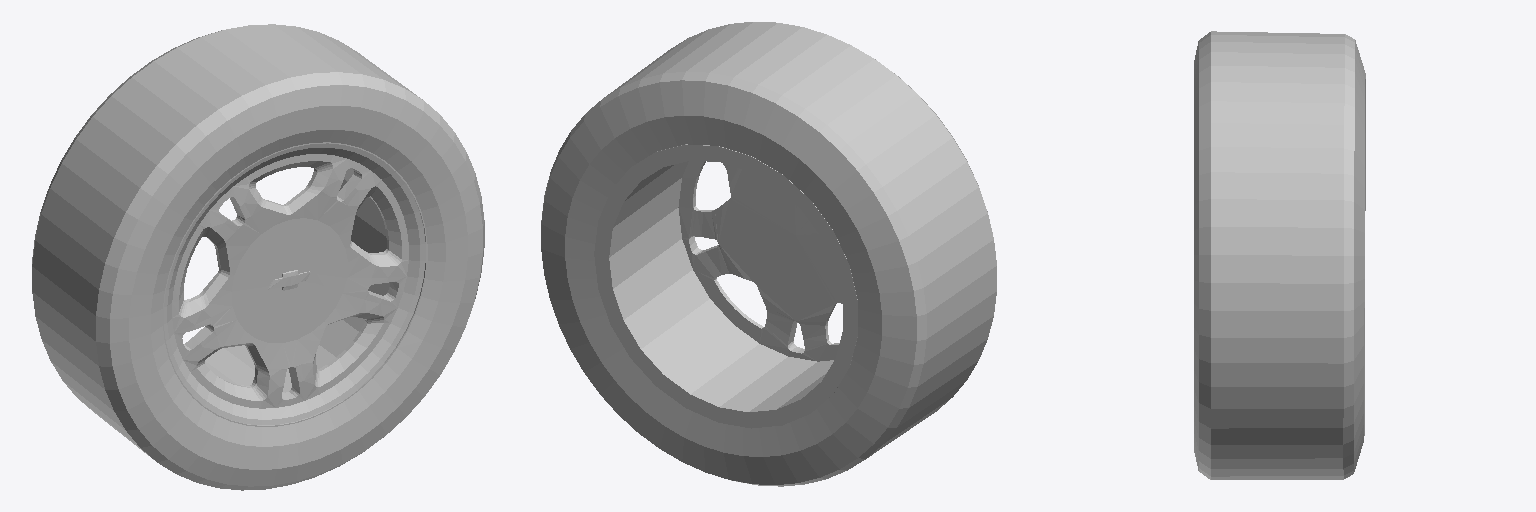
The picture shows the model from 3 angles: view 1: azimuth 30°, elevation 25°; view 2: azimuth 150°, elevation 25°; view 3: azimuth 270°, elevation 25°; orthographic projection.
Parts seen in each view (by area): view 1: U803_3A_901C_R_1_DM_U803_3A_901C_R, U803_3A_901C_R_U803_3A_901C_R_2_DaS, U803_3A_901C_R_U803_3A_901C_R_3_D; view 2: U803_3A_901C_R_1_DM_U803_3A_901C_R, U803_3A_901C_R_U803_3A_901C_R_2_DaS; view 3: U803_3A_901C_R_1_DM_U803_3A_901C_R.
Boxes of the visible parts, <box> form: U803_3A_901C_R_1_DM_U803_3A_901C_R: <box>32,24,484,490</box>; U803_3A_901C_R_U803_3A_901C_R_2_DaS: <box>163,142,427,426</box>; U803_3A_901C_R_U803_3A_901C_R_3_D: <box>242,225,336,336</box>; U803_3A_901C_R_1_DM_U803_3A_901C_R: <box>541,22,996,486</box>; U803_3A_901C_R_U803_3A_901C_R_2_DaS: <box>594,144,857,428</box>; U803_3A_901C_R_1_DM_U803_3A_901C_R: <box>1194,31,1365,479</box>.
Size of the model in its own units: 70.79 by 70.84 by 27.